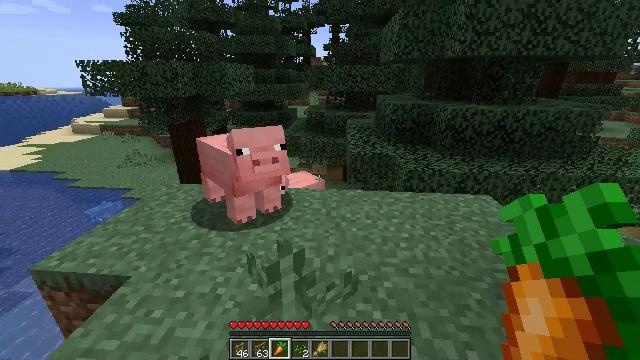pig: (199, 126, 289, 223)
